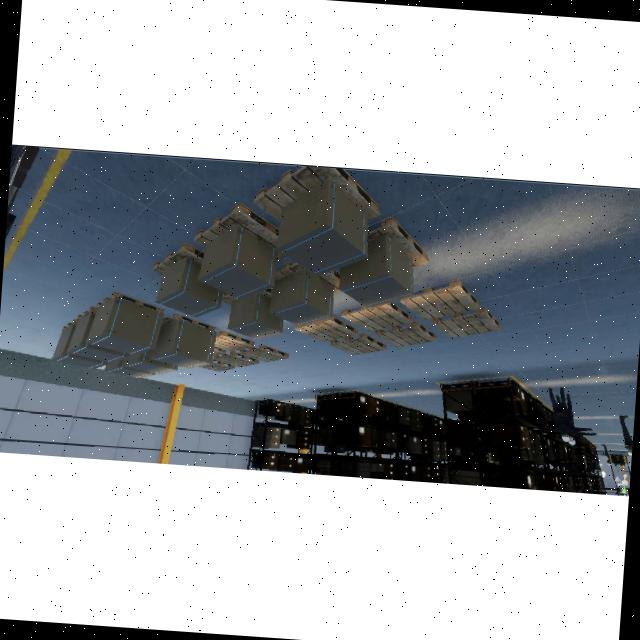wooden_pallet: (258, 165, 382, 223), (197, 203, 292, 264), (401, 280, 480, 321), (368, 219, 430, 270), (342, 302, 412, 333), (432, 307, 501, 338), (157, 242, 208, 276), (296, 316, 360, 343), (99, 291, 168, 315), (376, 322, 438, 348), (330, 332, 388, 355), (164, 313, 218, 333), (241, 344, 290, 364), (217, 330, 257, 352), (215, 350, 261, 367), (200, 358, 237, 372), (214, 348, 227, 356)
